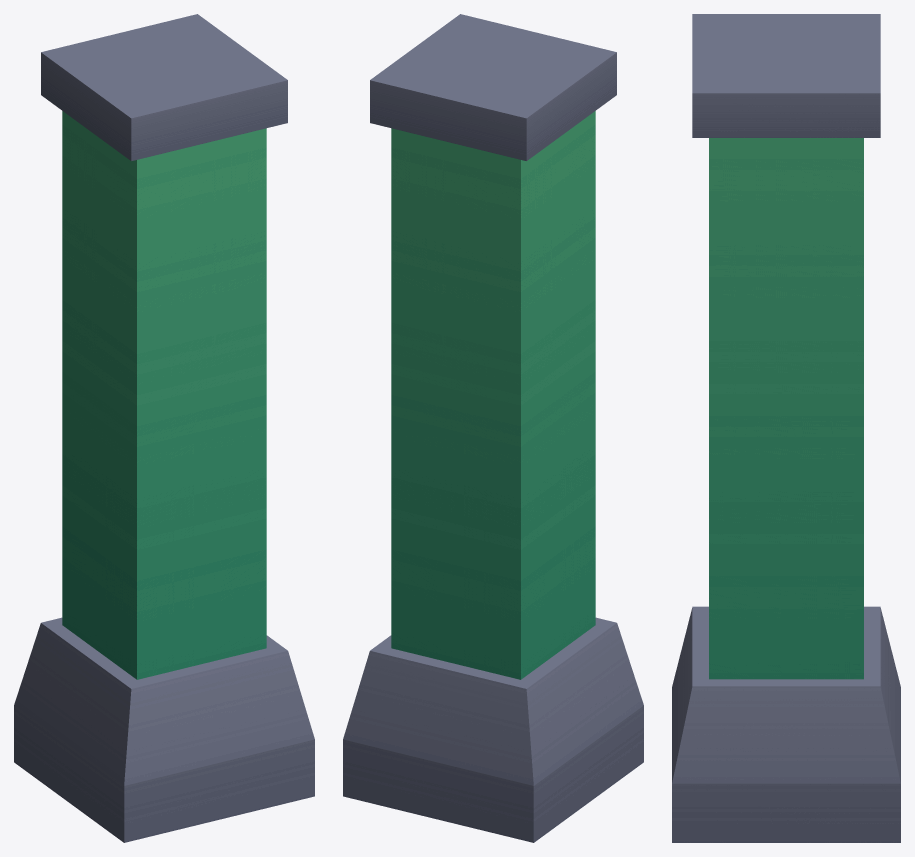
Rendered from bridge_pillar_wide.glb.
3 views of the same model, side by side, from view 1: azimuth 30°, elevation 25°; view 2: azimuth 150°, elevation 25°; view 3: azimuth 270°, elevation 25° (orthographic). The views are drawn at different scales.
Visible parts, largest first — view 1: bridge-pillar-wide; view 2: bridge-pillar-wide; view 3: bridge-pillar-wide.
Boxes of the visible parts, x1,y1,x2,y2 form: bridge-pillar-wide: [14, 14, 314, 842]; bridge-pillar-wide: [343, 14, 643, 842]; bridge-pillar-wide: [672, 14, 900, 842].
Bounding box in the file's own units: 0.14 × 0.5 × 0.14.
Materials: 1 (1 with a texture image).
